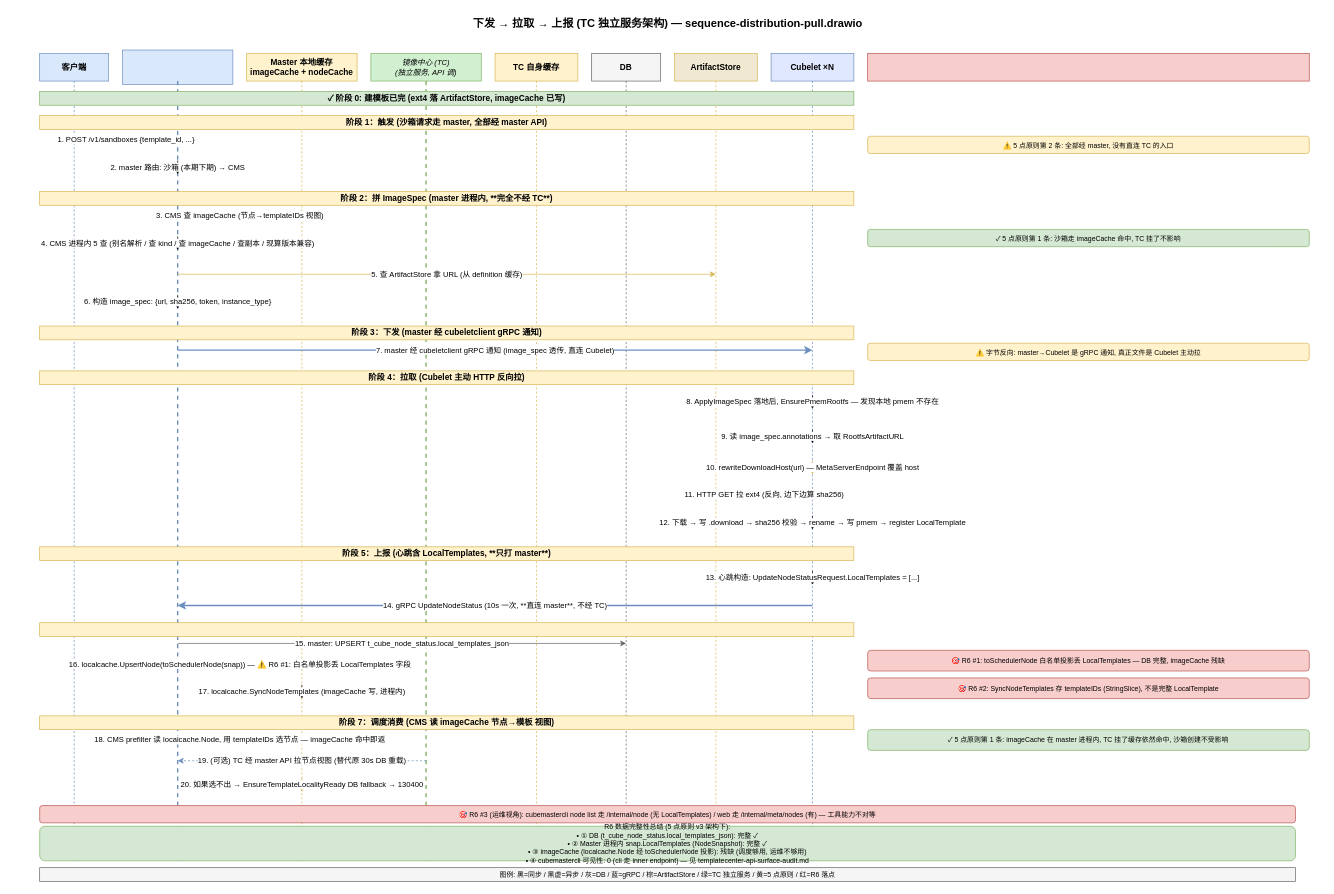
Image size: 1334x894. Some labels were removed from this diagram. Each missing label, with the centre of its shape:
"5 点原则 + R6 落点" goes at [1088,67].
"CubeMaster (内闭环, 多副本)" goes at [177,67].
"阶段 6：落点 (master 写 DB + imageCache, ⚠️ R6: 投影丢字段)" goes at [446,629].
